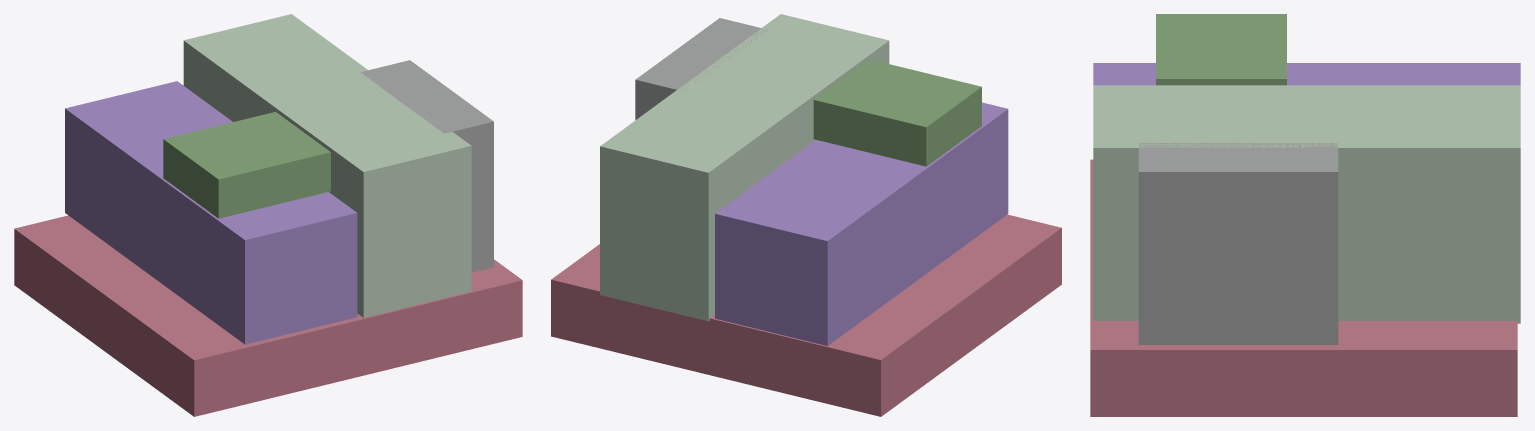
The picture shows the model from 3 angles, left to right: view 1: azimuth 30°, elevation 25°; view 2: azimuth 150°, elevation 25°; view 3: azimuth 270°, elevation 25°; orthographic projection. The views are drawn at different scales.
Parts seen in each view (by area): view 1: world; view 2: world; view 3: world.
Boxes of the visible parts, x1,y1,x2,y2 form: world: [14, 14, 522, 416]; world: [551, 14, 1061, 416]; world: [1090, 14, 1520, 416].
Bounding box in the file's own units: 7.9 × 4.7 × 7.55.
